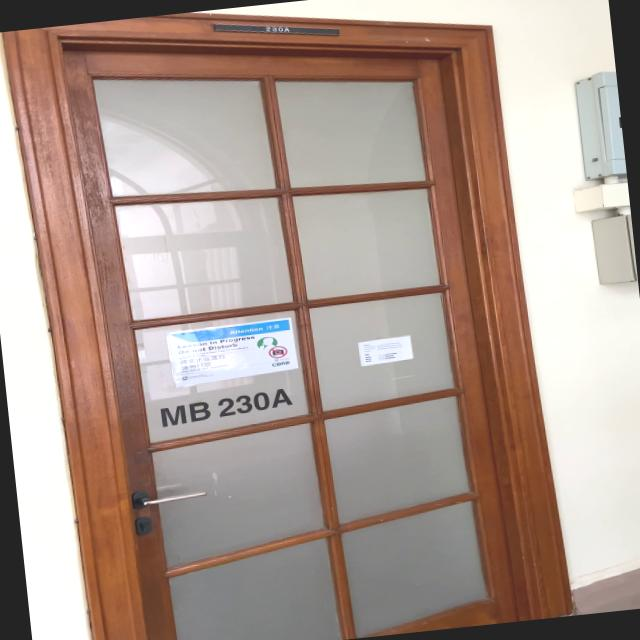room230A: (212, 6, 342, 51)
room230AWindow: (154, 383, 300, 430)
